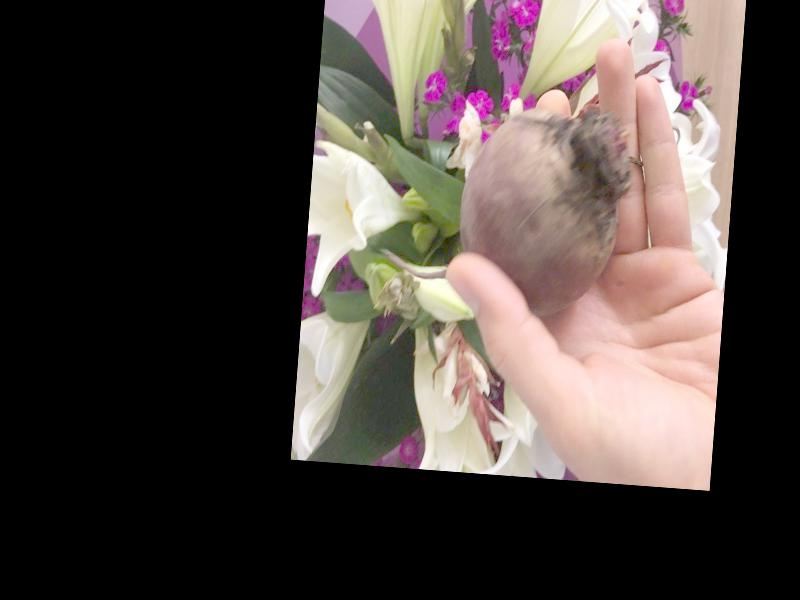Beet: (377, 93, 629, 318)
